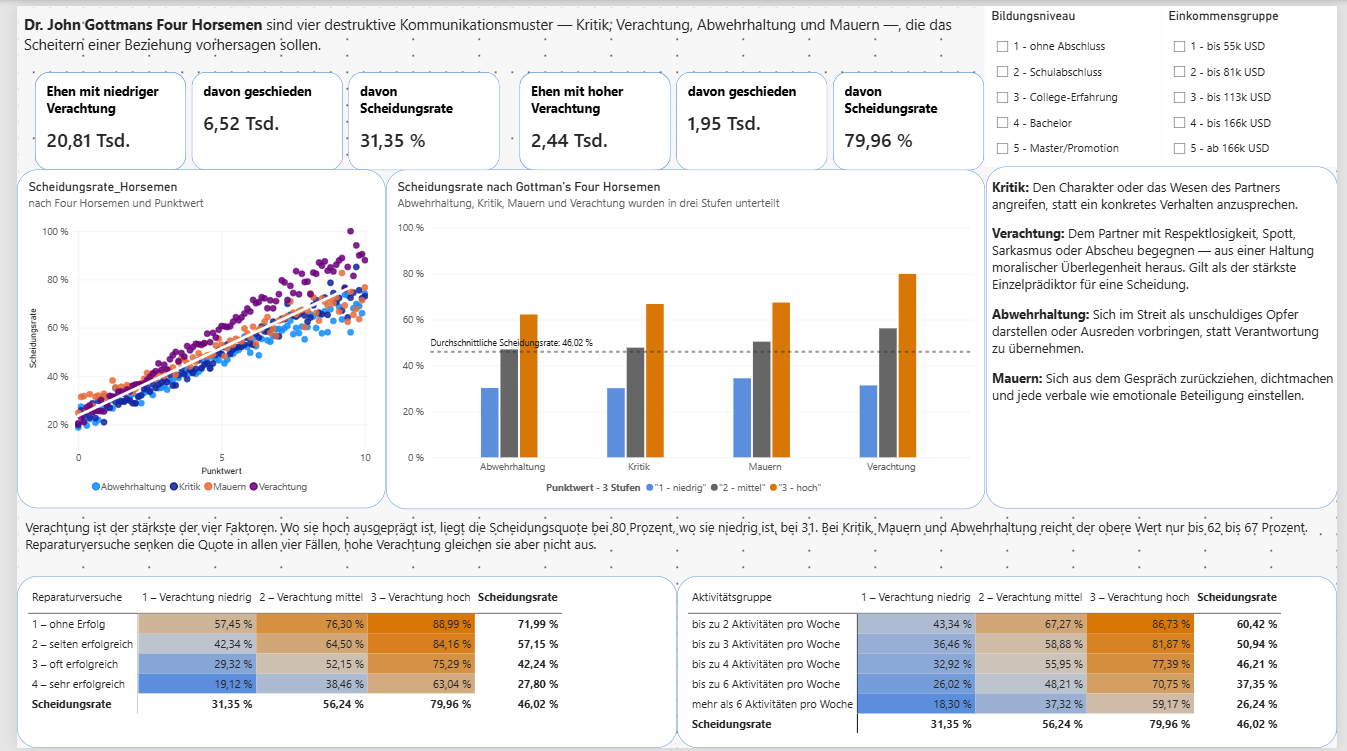

Layout of this report page (visuals, bound fields, positions):
{"tool":"powerbi","page":{"name":"Gottman's Four Horsemen","canvas":[1920,1080],"ordinal":2},"visuals":[{"type":"pivotTable","fields":{"Columns":["Ehen.contempt_high"],"Rows":["Ehen.repair_attempt_categories"],"Values":["_Measures.Scheidungsquote"]},"box":[0,829.5,960,250.2],"z":3000},{"type":"slicer","title":"Einkommensgruppe","fields":{"Values":["Ehen.Einkommensquintile"]},"box":[1664.4,0,255.3,234.2],"z":4000},{"type":"slicer","title":"Bildungsniveau","fields":{"Values":["Ehen.education_level_sorted"]},"box":[1407.6,0,256.4,234.2],"z":5000},{"type":"clusteredColumnChart","title":"Scheidungsrate nach Gottman''s Four Horsemen","fields":{"Category":["Reiter.Reiter"],"Series":["Reiter.Kategorien_high"],"Y":["Reiter.Scheidungsrate_Reiter"]},"box":[536.1,238.4,871.6,494],"z":6000},{"type":"pivotTable","fields":{"Columns":["Ehen.contempt_high"],"Rows":["Ehen.Aktivitätsgruppe"],"Values":["_Measures.Scheidungsquote"]},"box":[960,829.5,960,250.2],"z":7000},{"type":"textbox","box":[0,0,1407.6,94.9],"z":8000},{"type":"textbox","box":[0,732.4,1920,97.1],"z":9000},{"type":"cardVisual","fields":{"Data":["Ehen.Ehen_gesamt","Ehen.divorced_anzahl","_Measures.Scheidungsquote"],"Rows":["Ehen.contempt_high"]},"box":[0,94.9,704.4,143.5],"z":10000},{"type":"cardVisual","fields":{"Data":["Ehen.Ehen_gesamt","Ehen.divorced_anzahl","_Measures.Scheidungsquote"],"Rows":["Ehen.contempt_high"]},"box":[704.4,94.9,703.3,143.5],"z":11000},{"type":"textbox","box":[1408.7,234.1,511.3,497.3],"z":12000},{"type":"scatterChart","fields":{"Series":["Horsemen.Four Horsemen"],"X":["Horsemen.Punktwert"],"Y":["Horsemen.Scheidungsrate_Horsemen"]},"box":[0,238.4,536.1,492.9],"z":12001}]}

Visuals, with their boxes in screenshot pixels (x1, y1, x2, y2), scaled from the page's 1920x1080 canvas onto the 1347x751 screenshot:
pivotTable - Ehen.contempt_high x Ehen.repair_attempt_categories: 0, 577, 674, 750
"Einkommensgruppe" slicer: 1168, 0, 1346, 163
"Bildungsniveau" slicer: 988, 0, 1167, 163
"Scheidungsrate nach Gottman''s Four Horsemen" clusteredColumnChart: 376, 166, 988, 509
pivotTable - Ehen.contempt_high x Ehen.Aktivitätsgruppe: 674, 577, 1346, 750
textbox: 0, 0, 988, 66
textbox: 0, 509, 1346, 577
cardVisual - Ehen.Ehen_gesamt x Ehen.divorced_anzahl: 0, 66, 494, 166
cardVisual - Ehen.Ehen_gesamt x Ehen.divorced_anzahl: 494, 66, 988, 166
textbox: 988, 163, 1346, 509
scatterChart - Horsemen.Four Horsemen x Horsemen.Punktwert: 0, 166, 376, 509
